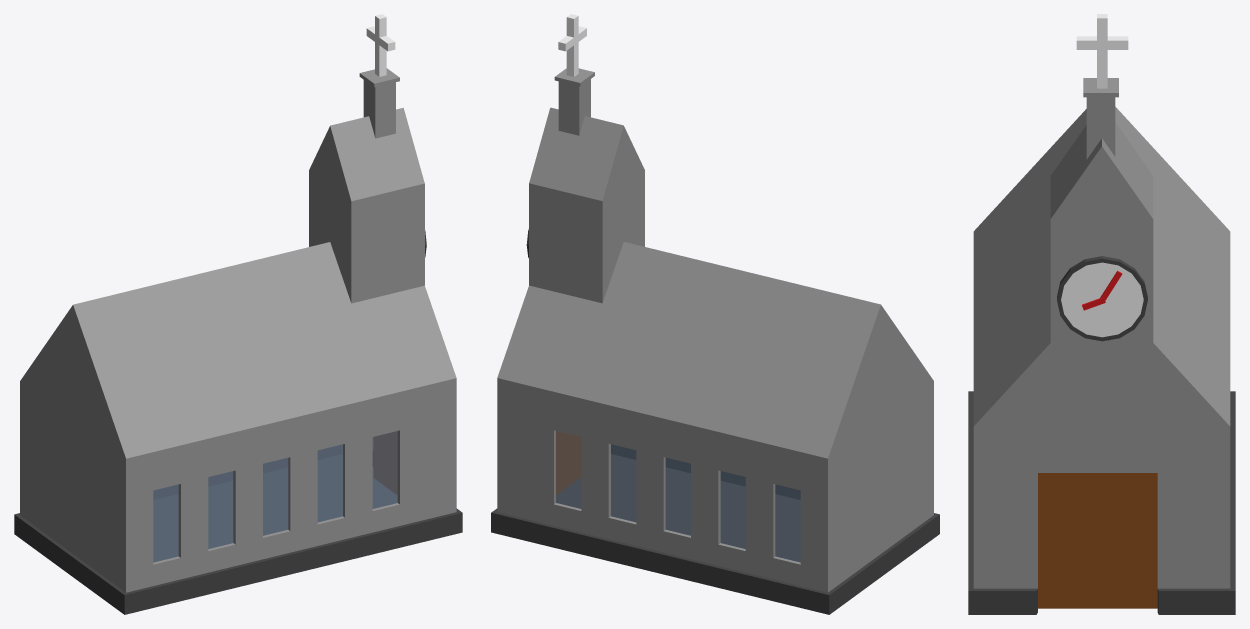
The model's file is Church.fbx.
3 renders of one model, left to right at view 1: azimuth 30°, elevation 25°; view 2: azimuth 150°, elevation 25°; view 3: azimuth 270°, elevation 25°, orthographic. The views are drawn at different scales.
Visible parts, largest first — view 1: church; view 2: church; view 3: church.
Part boxes in pixels (left/top/right/bottom): church: left=14, top=14, right=462, bottom=614; church: left=491, top=14, right=939, bottom=614; church: left=968, top=14, right=1235, bottom=614.
Size of the model in its own units: 927 by 1254 by 521.
